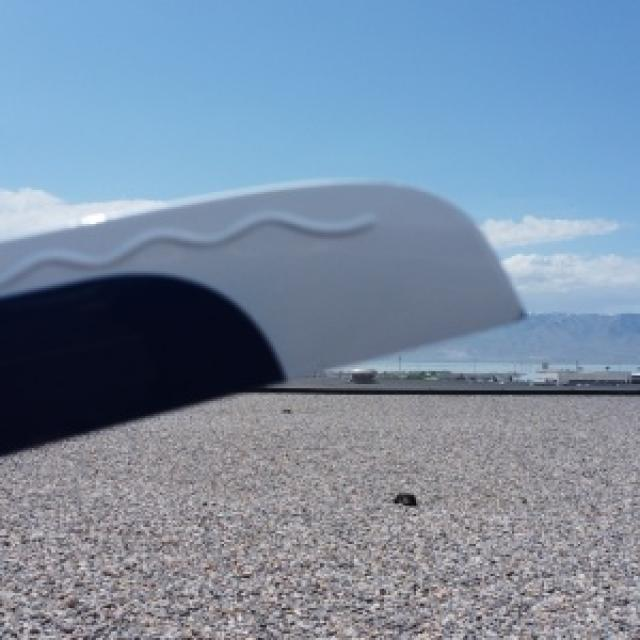healthy: (0, 183, 518, 448)
